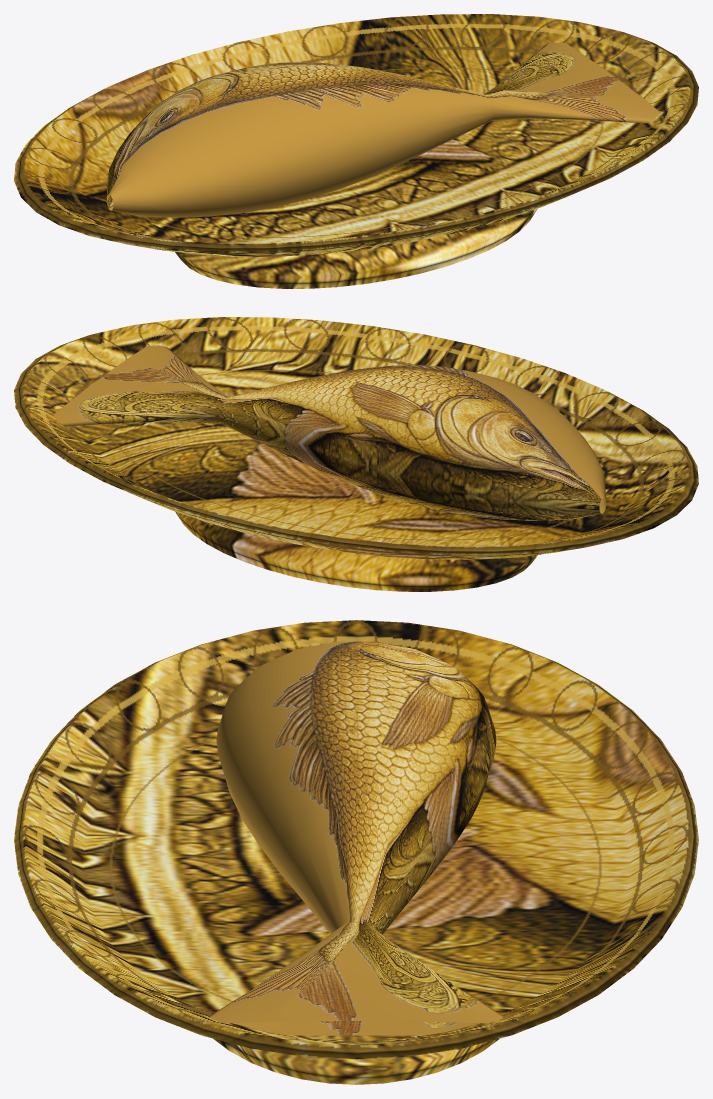
Rendered from gold-fish-platter.glb.
3 renders of one model, top to bottom at view 1: azimuth 30°, elevation 25°; view 2: azimuth 150°, elevation 25°; view 3: azimuth 270°, elevation 25°, orthographic. The views are drawn at different scales.
Visible parts, largest first — view 1: gold_platter, steamed_fish; view 2: gold_platter, steamed_fish; view 3: gold_platter, steamed_fish.
Boxes of the visible parts, x1=… form: gold_platter: x1=14, y1=14, x2=698, y2=288; steamed_fish: x1=106, y1=42, x2=659, y2=217; gold_platter: x1=14, y1=317, x2=698, y2=591; steamed_fish: x1=53, y1=345, x2=606, y2=520; gold_platter: x1=14, y1=620, x2=698, y2=1084; steamed_fish: x1=208, y1=641, x2=503, y2=1035.
Bounding box in the file's own units: 1.3 × 0.3271 × 0.858.
Materials: 2 (2 with a texture image).
